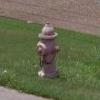Hydrant: (30, 16, 66, 82)
